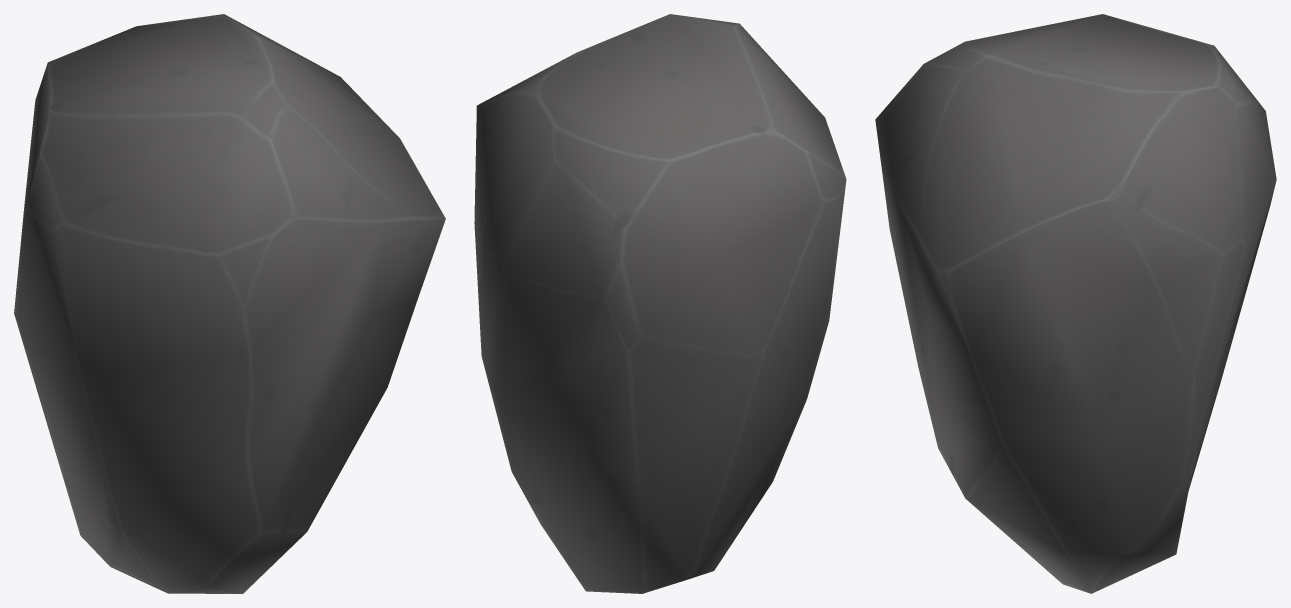
Rendered from stylizedrock02.glb.
3 renders of one model, left to right at view 1: azimuth 30°, elevation 25°; view 2: azimuth 150°, elevation 25°; view 3: azimuth 270°, elevation 25°, orthographic. The views are drawn at different scales.
Parts seen in each view (by area): view 1: stylizedRock02; view 2: stylizedRock02; view 3: stylizedRock02.
Part boxes in pixels (x1,y1,x2,y2): stylizedRock02: [14, 14, 445, 593]; stylizedRock02: [474, 14, 846, 593]; stylizedRock02: [875, 14, 1276, 593].
Size of what is drawn, in the model's own units: 1.26 by 1.9 by 1.31.
1 material, 1 textured.
